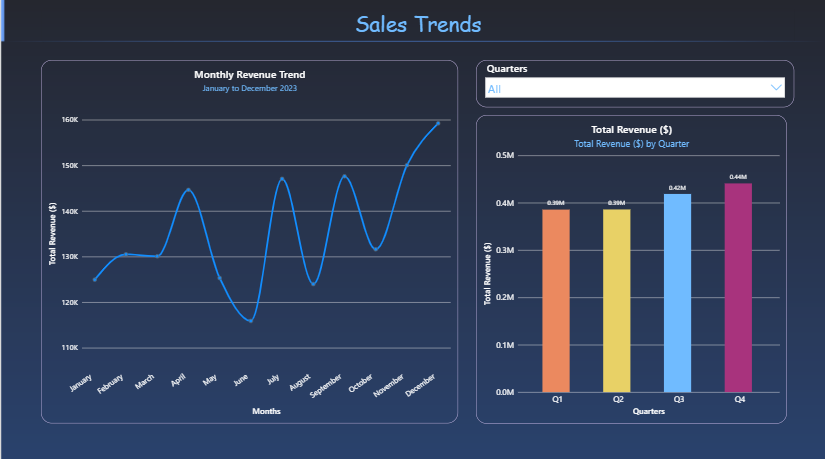

This screenshot's page, from the dashboard's own definition file:
{"tool":"powerbi","page":{"name":"Sales Trends","canvas":[1920,1080],"ordinal":1},"visuals":[{"type":"lineChart","title":"Monthly Revenue Trend","fields":{"Category":["Sheet1 (2).Month"],"Y":["Sum(Sheet1 (2).Revenue)"]},"box":[93.9,139.4,969.7,845.5],"z":0},{"type":"clusteredColumnChart","title":"Total Revenue ($)","fields":{"Category":["Sheet1 (2).Quarter"],"Y":["Sum(Sheet1 (2).Revenue)"]},"box":[1105,267.5,722.5,717.5],"z":1000},{"type":"slicer","fields":{"Values":["Sheet1 (2).Quarter"]},"box":[1104.8,139.4,740.1,109.9],"z":2000},{"type":"textbox","box":[95,20,1750,75],"z":3000}]}

Visuals, with their boxes in screenshot pixels (x1, y1, x2, y2), scaled from the page's 1920x1080 canvas onto the 825x459 screenshot:
"Monthly Revenue Trend" lineChart: [left=40, top=59, right=457, bottom=419]
"Total Revenue ($)" clusteredColumnChart: [left=475, top=114, right=785, bottom=419]
slicer - Sheet1 (2).Quarter: [left=475, top=59, right=793, bottom=106]
textbox: [left=41, top=8, right=793, bottom=40]
